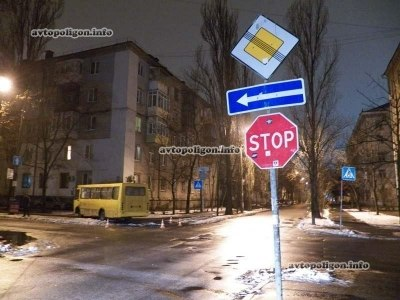crosswalk: (341, 166, 356, 181)
stop: (247, 121, 294, 162)
